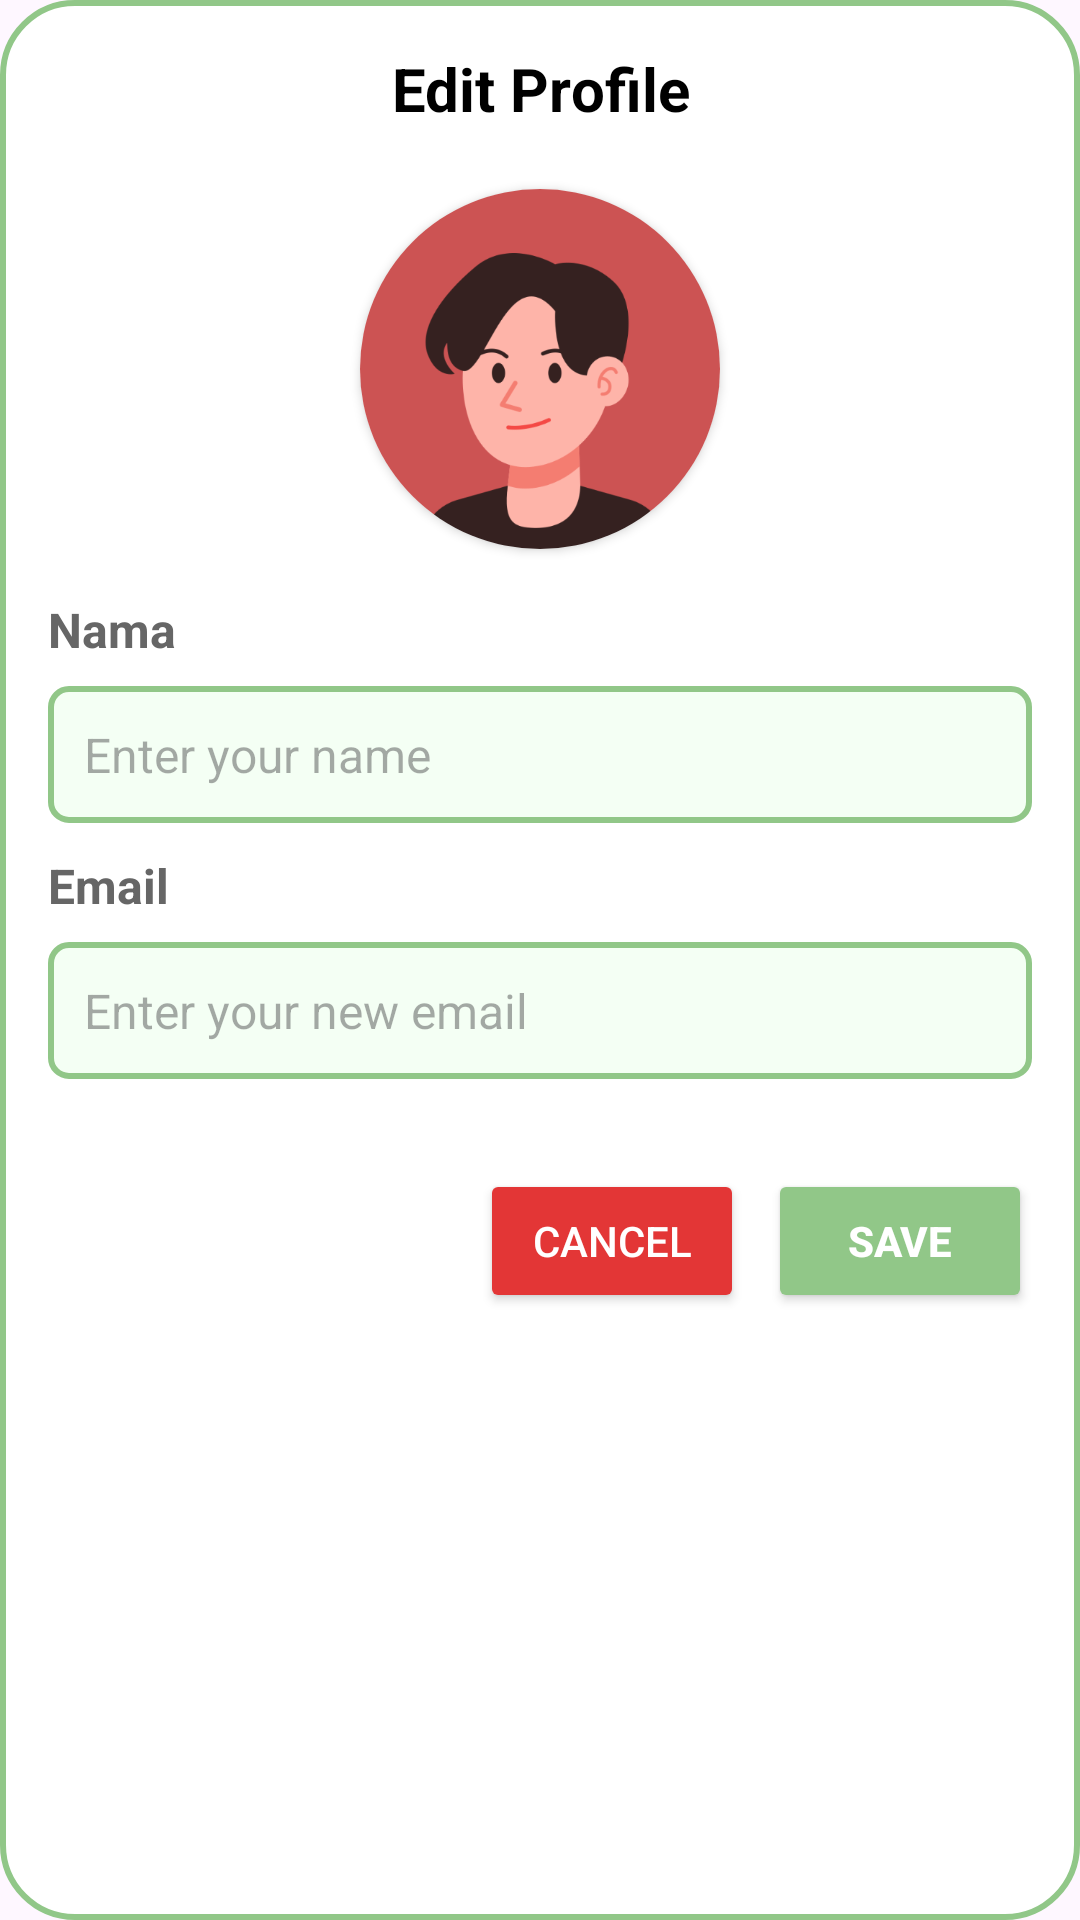

Icons on this 1080*1920 Android screen, each with its box as (x1, y1, x2, y2):
user: (360, 189, 720, 549)
